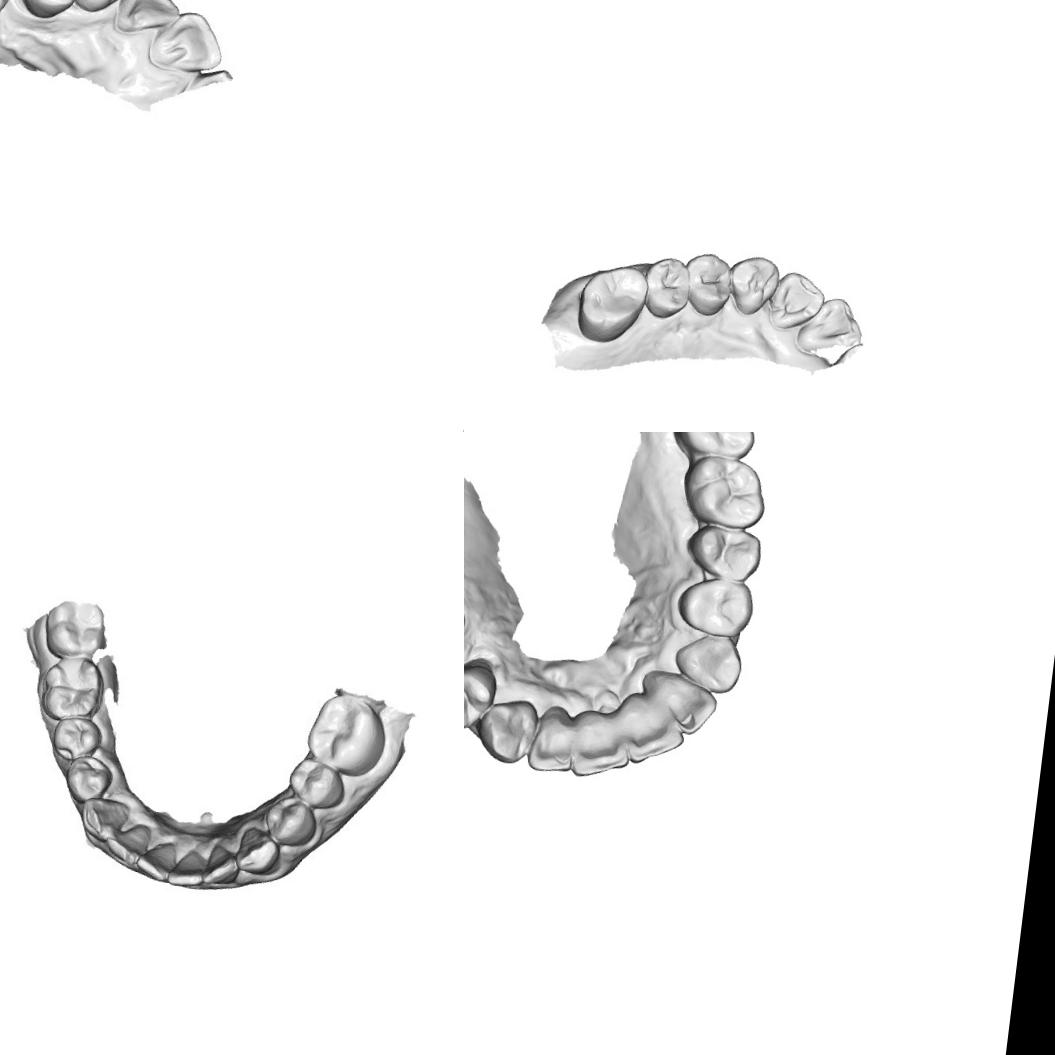canine: (668, 629, 747, 697), (472, 695, 540, 766), (725, 252, 782, 318), (233, 822, 285, 881), (76, 793, 128, 845), (73, 0, 143, 16)
incisor: (637, 666, 722, 740), (618, 690, 690, 770), (564, 708, 635, 784), (795, 293, 866, 359), (764, 268, 828, 336), (152, 7, 221, 70), (523, 706, 579, 776), (119, 0, 183, 42), (137, 839, 178, 877), (109, 826, 148, 863), (203, 842, 237, 878), (170, 850, 204, 883)
molar: (674, 450, 771, 536), (572, 260, 651, 350), (308, 693, 388, 779), (33, 650, 109, 726), (667, 432, 763, 466)
premolar: (673, 570, 758, 642), (681, 518, 766, 586), (680, 248, 735, 320), (640, 254, 695, 322), (288, 756, 348, 809), (48, 713, 108, 766), (464, 658, 501, 735), (262, 797, 318, 847), (68, 755, 114, 807), (18, 0, 81, 21)
